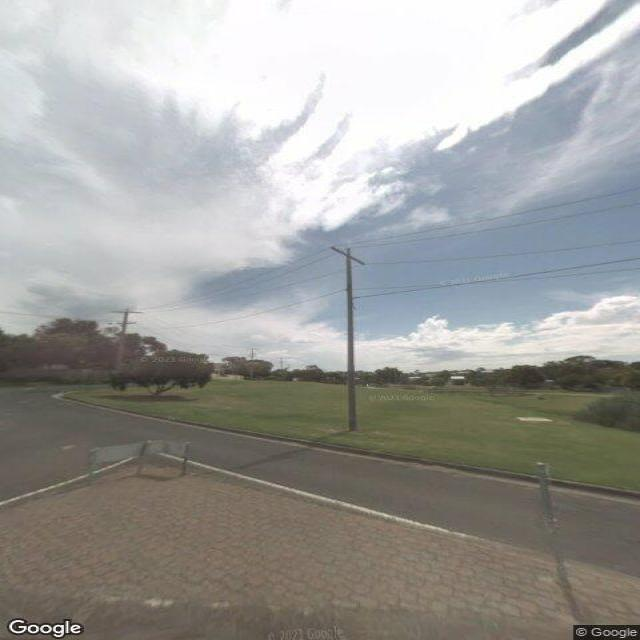crossarm: (331, 246, 366, 265), (109, 310, 143, 316), (107, 322, 138, 328)
mid mount suitable pole: (331, 245, 367, 433), (106, 307, 144, 392)
timber-pole: (345, 249, 357, 433), (114, 307, 130, 392)
